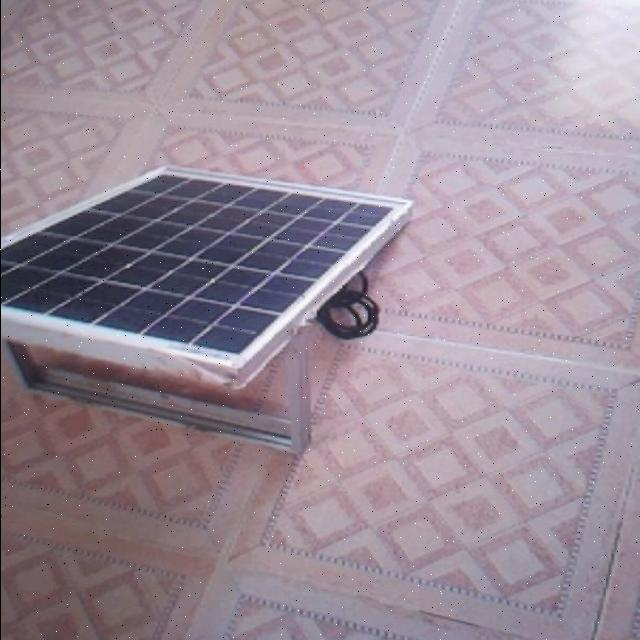Normal Solar Panel: (0, 166, 411, 387)
